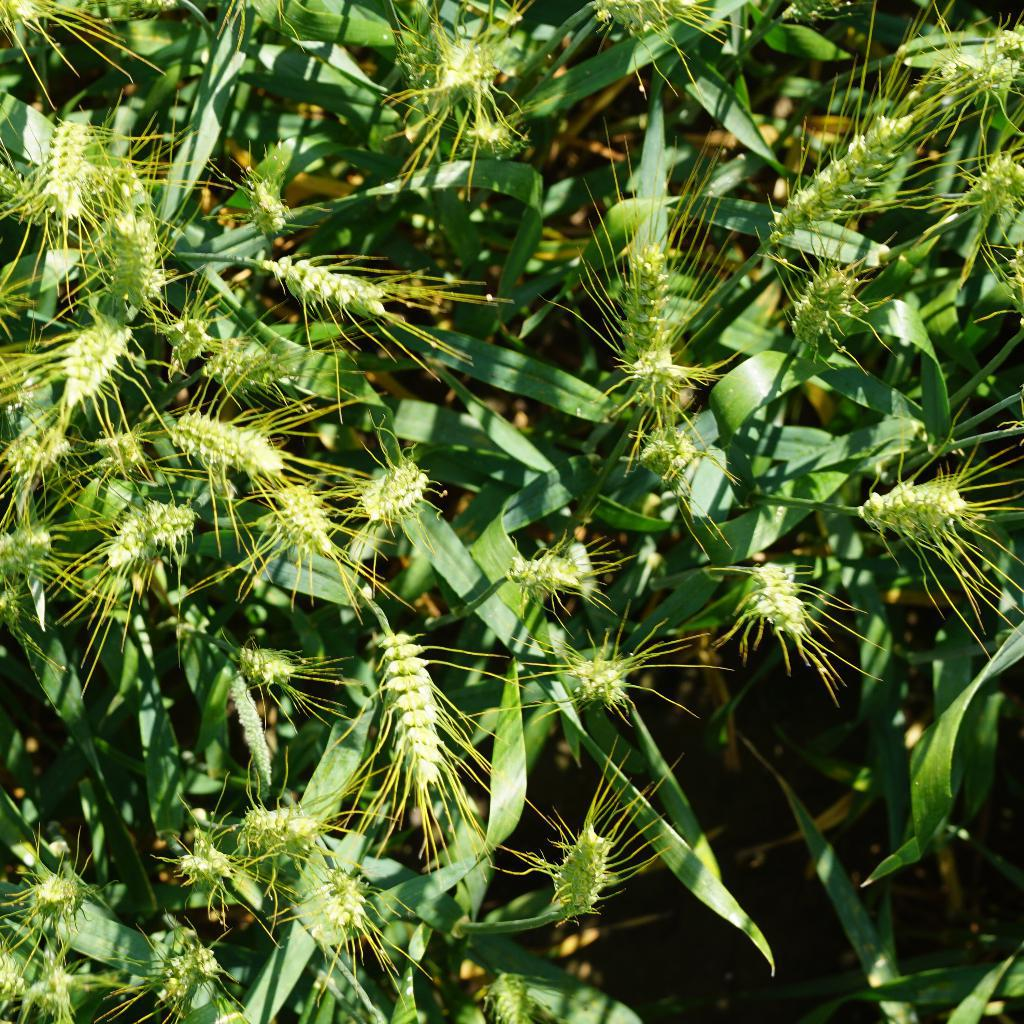0-0: (756, 108, 920, 255), (370, 622, 453, 785), (248, 252, 403, 322), (618, 230, 680, 389), (541, 816, 629, 925), (408, 31, 516, 113), (50, 310, 134, 414), (858, 467, 974, 539), (95, 500, 200, 575), (168, 411, 285, 477), (791, 260, 867, 360), (103, 201, 160, 321), (739, 555, 811, 641), (351, 458, 433, 529), (621, 345, 704, 412), (44, 118, 94, 225), (275, 481, 338, 561), (949, 158, 1024, 224), (230, 806, 327, 857), (505, 541, 590, 598), (195, 339, 287, 391), (152, 945, 227, 1008), (395, 22, 443, 117), (20, 864, 90, 929), (233, 165, 286, 249), (949, 38, 1024, 97), (81, 157, 151, 220), (0, 433, 67, 490), (440, 117, 522, 163), (565, 650, 633, 704), (224, 642, 308, 685), (632, 424, 702, 473), (0, 520, 57, 580), (324, 867, 370, 939), (586, 1, 715, 26), (167, 837, 235, 884), (30, 955, 78, 1015), (489, 965, 537, 1024), (159, 313, 214, 364), (0, 350, 34, 416), (83, 436, 149, 469), (0, 149, 29, 203), (30, 675, 72, 702)
